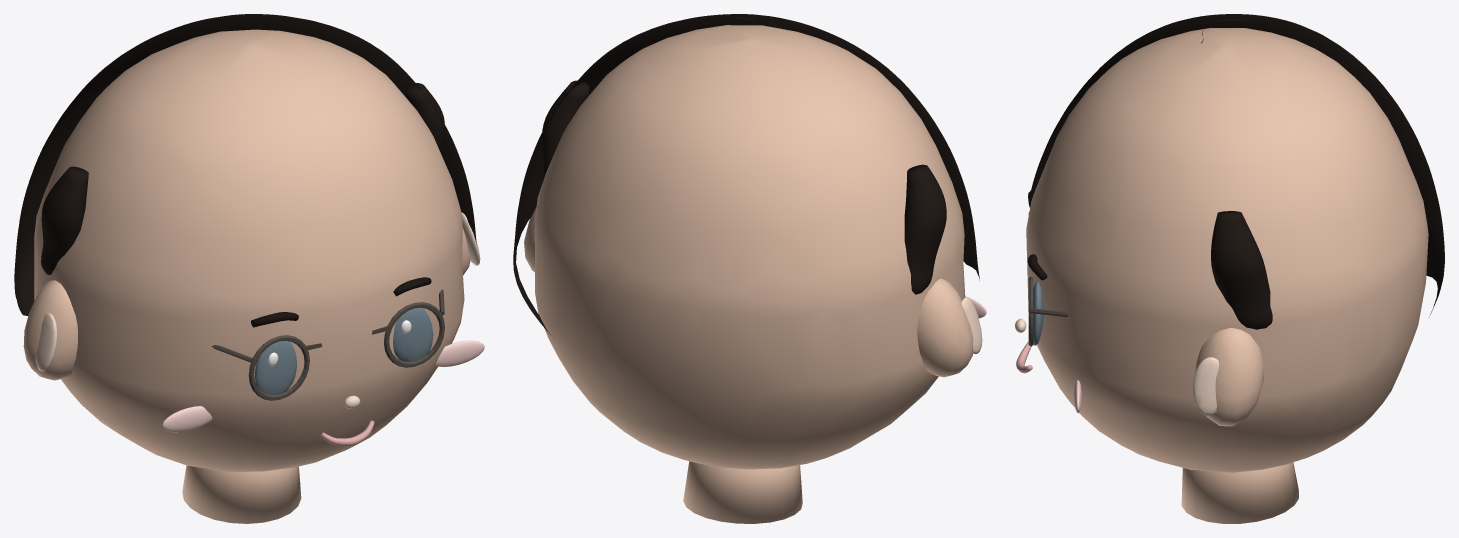
The model's file is kaohsiung-council-07-b1cd243b-head.glb.
3 renders of one model, left to right at view 1: azimuth 30°, elevation 25°; view 2: azimuth 150°, elevation 25°; view 3: azimuth 270°, elevation 25°, orthographic.
Visible parts, largest first — view 1: Skin, Hair, Eye, Glasses, Blush, Nose, Brow; view 2: Skin, Hair, Nose; view 3: Skin, Hair, Nose, Glasses, Eye.
Part boxes in pixels (bbox=[...]): Skin: bbox=[23, 29, 470, 523]; Hair: bbox=[14, 14, 476, 315]; Eye: bbox=[255, 304, 433, 394]; Glasses: bbox=[211, 289, 444, 400]; Blush: bbox=[162, 340, 484, 432]; Nose: bbox=[35, 212, 480, 408]; Brow: bbox=[251, 277, 431, 327]; Skin: bbox=[524, 25, 973, 523]; Hair: bbox=[513, 14, 979, 338]; Nose: bbox=[961, 297, 982, 353]; Skin: bbox=[1026, 28, 1428, 523]; Hair: bbox=[1029, 14, 1444, 329]; Nose: bbox=[1015, 318, 1218, 415]; Glasses: bbox=[1028, 212, 1068, 346]; Eye: bbox=[1033, 281, 1043, 345].
Bounding box in the file's own units: 1.17 × 1.19 × 0.9911.
